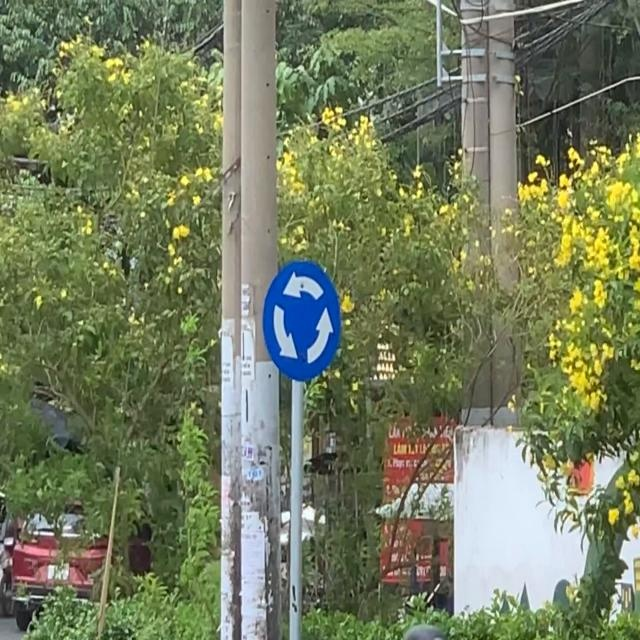bien_hieu_lenh: (261, 257, 344, 385)
